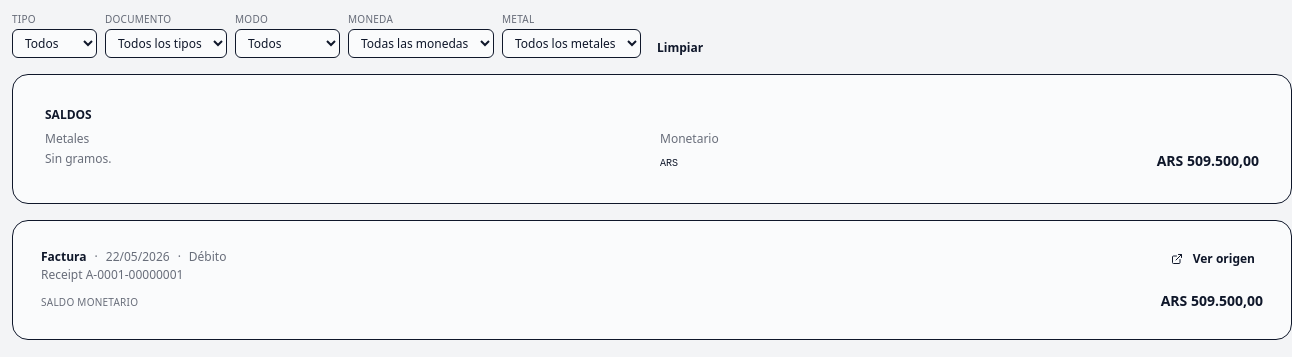
Test: EntityBalanceMovementsView — filtros (Fase 4.4) › filtro que no matchea nada → empty state con mensaje 'cumple con los filtros'
The image size is (1292, 357).
Step 1. Select "Créditos" in the dropdown with test id "filter-kind" → (54, 44), box [12,29,97,58]
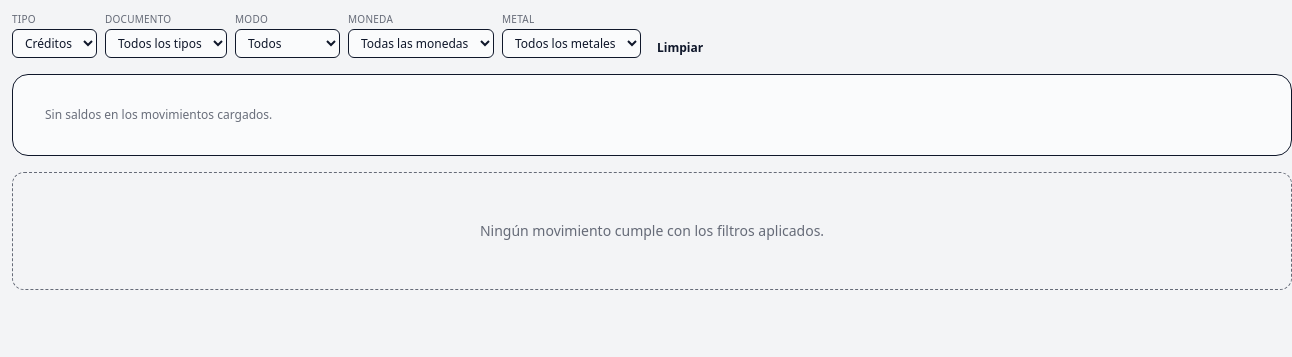
Check: the text with test id "balance-movements-empty" shows "filtros", box [480,221,824,240]
